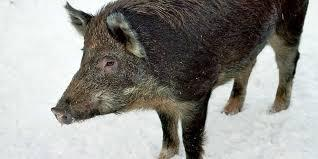wildboar: (48, 0, 309, 159)
